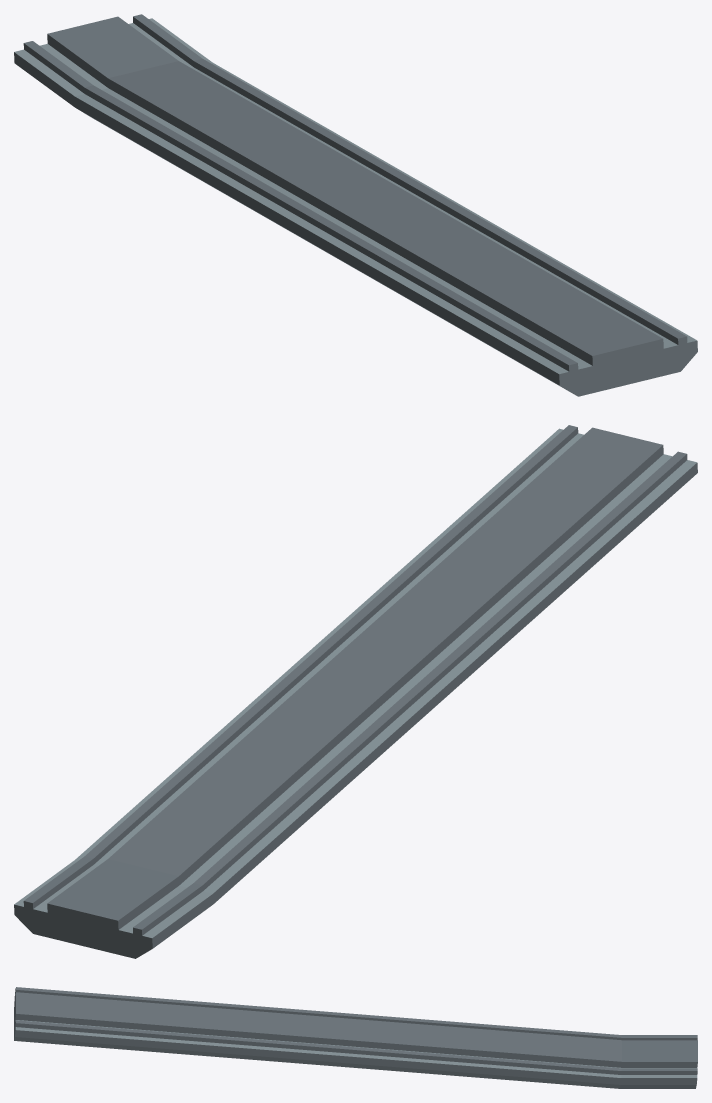
Rendered from SM_monorail_tracks_01_F.glb.
3 renders of one model, top to bottom at view 1: azimuth 30°, elevation 25°; view 2: azimuth 150°, elevation 25°; view 3: azimuth 270°, elevation 25°, orthographic. The views are drawn at different scales.
Visible parts, largest first — view 1: SM_monorail_tracks_01_F; view 2: SM_monorail_tracks_01_F; view 3: SM_monorail_tracks_01_F.
Part boxes in pixels (x1,y1,x2,y2): SM_monorail_tracks_01_F: (14,14,697,396); SM_monorail_tracks_01_F: (14,425,697,958); SM_monorail_tracks_01_F: (14,987,697,1088).
Size of the model in its own units: 1.31 by 1.02 by 9.
1 material, 1 textured.
